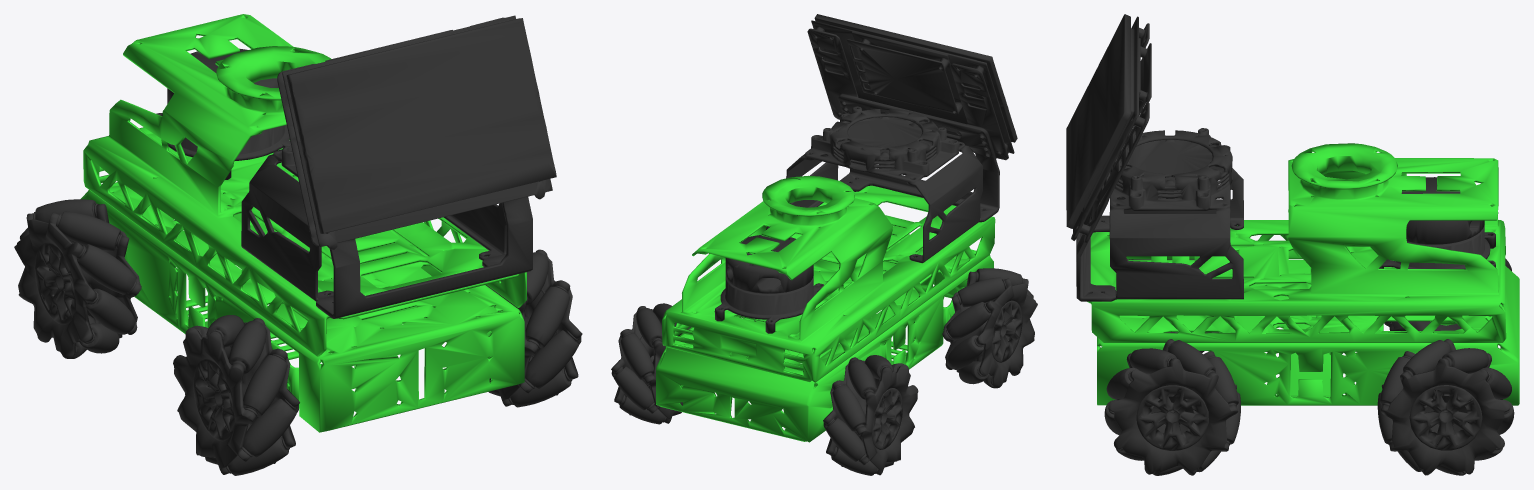
The model's file is Body.fbx.
3 renders of one model, left to right at view 1: azimuth 30°, elevation 25°; view 2: azimuth 150°, elevation 25°; view 3: azimuth 270°, elevation 25°, orthographic. The views are drawn at different scales.
Parts seen in each view (by area): view 1: back_shell_black_link, back_shell_green_link, base_link.001, wheel_left_front_link, wheel_left_back_link, wheel_right_front_link, lidar_link; view 2: back_shell_green_link, back_shell_black_link, base_link.001, wheel_left_back_link, wheel_left_front_link, lidar_link, wheel_right_back_link; view 3: back_shell_green_link, back_shell_black_link, base_link.001, wheel_right_front_link, wheel_right_back_link, lidar_link, wheel_left_front_link.
Part boxes in pixels (left/top/right/bottom): back_shell_black_link: left=241, top=15, right=556, bottom=318; back_shell_green_link: left=83, top=14, right=526, bottom=356; base_link.001: left=80, top=176, right=524, bottom=432; wheel_left_front_link: left=14, top=199, right=141, bottom=358; wheel_left_back_link: left=173, top=315, right=299, bottom=475; wheel_right_front_link: left=486, top=249, right=582, bottom=407; lidar_link: left=156, top=48, right=291, bottom=179; back_shell_green_link: left=662, top=175, right=995, bottom=382; back_shell_black_link: left=786, top=14, right=1017, bottom=263; base_link.001: left=656, top=234, right=993, bottom=442; wheel_left_back_link: left=942, top=268, right=1037, bottom=388; wheel_left_front_link: left=823, top=355, right=918, bottom=475; lidar_link: left=714, top=235, right=823, bottom=333; wheel_right_back_link: left=611, top=303, right=690, bottom=424; back_shell_green_link: left=1087, top=143, right=1506, bottom=342; back_shell_black_link: left=1066, top=14, right=1243, bottom=301; base_link.001: left=1097, top=259, right=1519, bottom=405; wheel_right_front_link: left=1104, top=339, right=1240, bottom=475; wheel_right_back_link: left=1377, top=339, right=1514, bottom=475; lidar_link: left=1379, top=177, right=1495, bottom=269; wheel_left_front_link: left=1384, top=258, right=1511, bottom=330.
Size of the model in its own units: 107 by 122 by 144.
